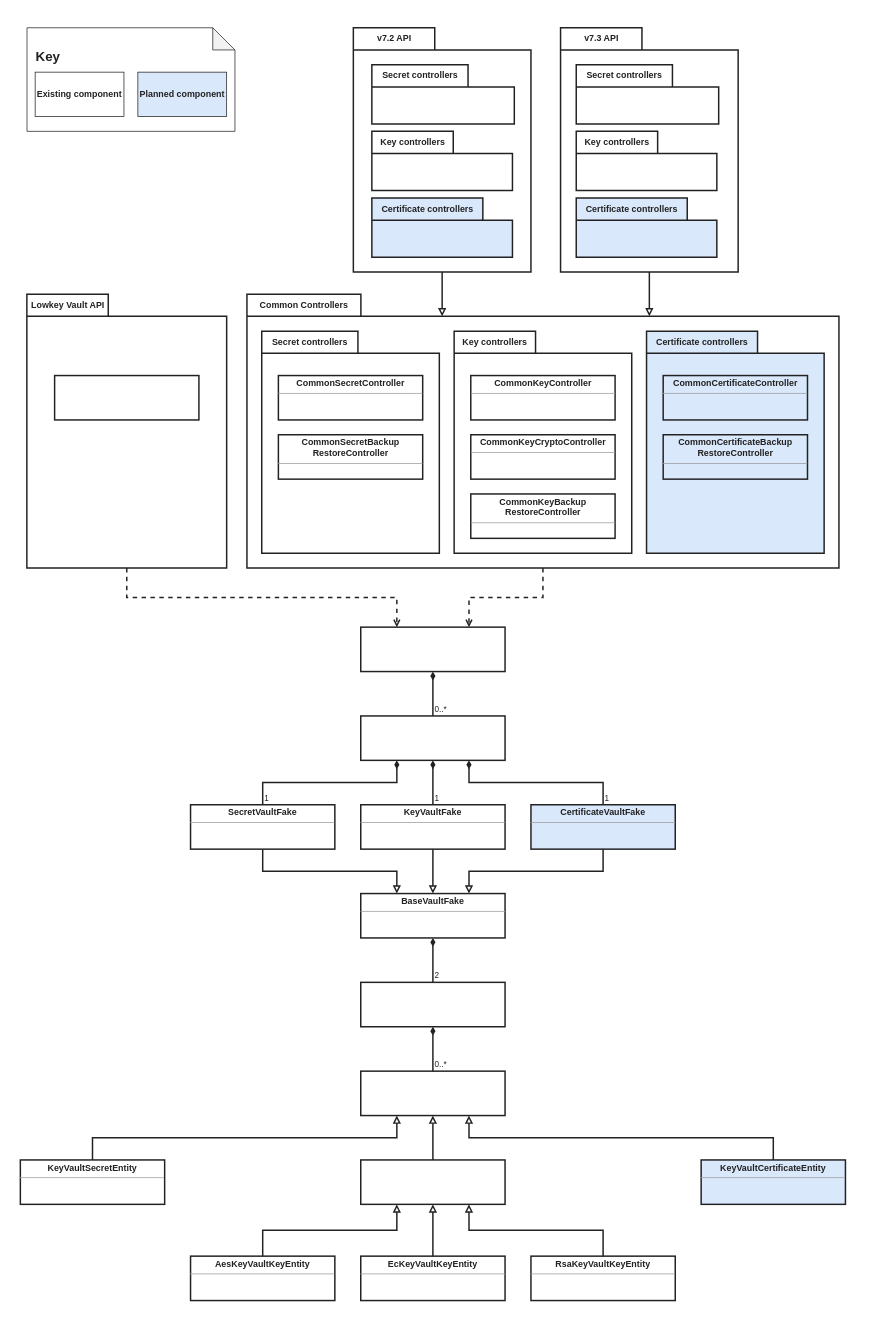
This 869x1328 diagram has some shape labels left out. Each missing label, with the centre of its shape:
KeyVaultBaseEntity: (432,1093)
KeyVaultKeyEntity: (432,1182)
VaultFake: (432,738)
VaultManagementController: (126,397)
VaultService: (432,649)
VersionedEntityMultiMap: (432,1004)
